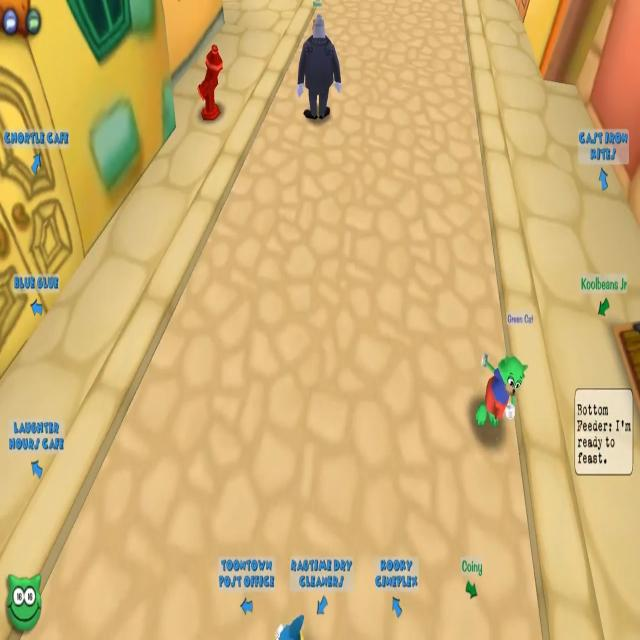bottomfeeder: (299, 12, 345, 122)
